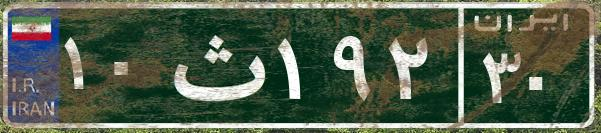0: (110, 28, 158, 105), (525, 38, 570, 115)
1: (273, 28, 330, 110), (57, 26, 110, 107)
2: (385, 28, 445, 110)
3: (475, 38, 525, 113)
9: (330, 28, 385, 110)
ث: (158, 15, 273, 115)
